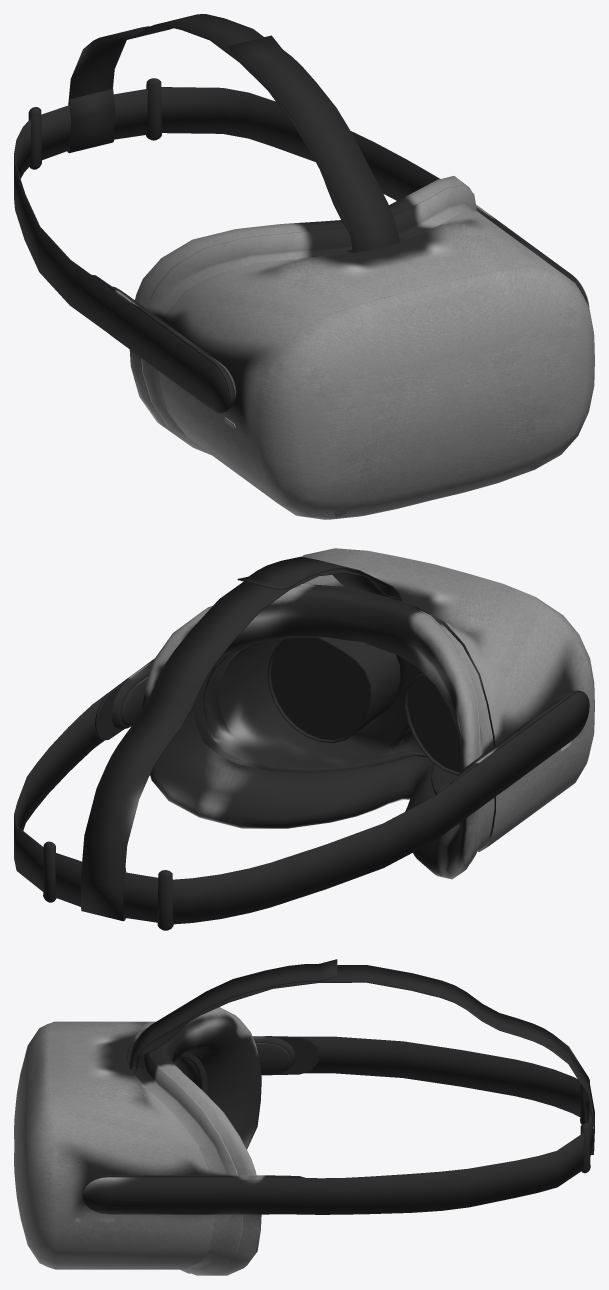
File: headset0.glb
3 views of the same model, one above another, from view 1: azimuth 30°, elevation 25°; view 2: azimuth 150°, elevation 25°; view 3: azimuth 270°, elevation 25° (orthographic). The views are drawn at different scales.
Visible parts, largest first — view 1: Quest2_lowpoly.001; view 2: Quest2_lowpoly.001; view 3: Quest2_lowpoly.001.
Part boxes in pixels (<box>): Quest2_lowpoly.001: <box>14,14,594,519</box>; Quest2_lowpoly.001: <box>14,548,594,930</box>; Quest2_lowpoly.001: <box>14,959,594,1275</box>.
Bounding box in the file's own units: 40.3 × 36.08 × 70.08.
Materials: 1 (1 with a texture image).
